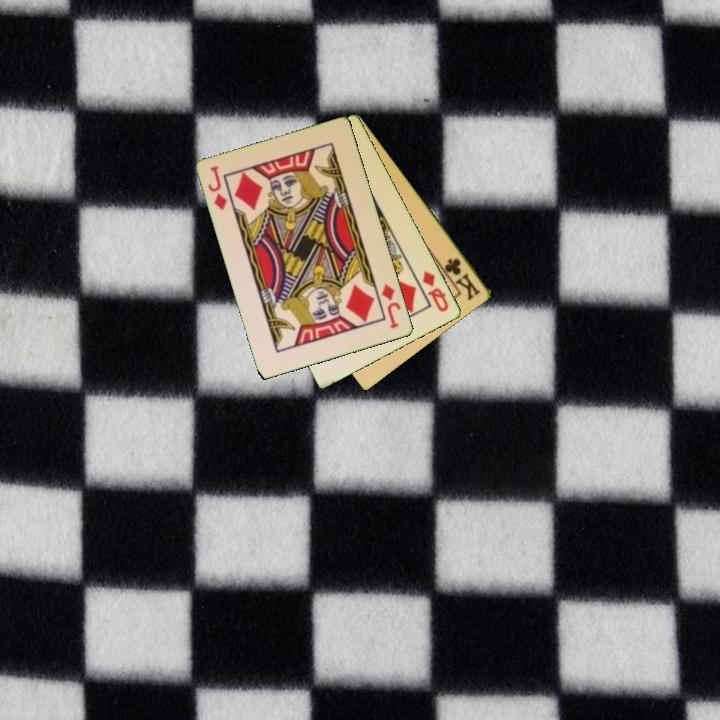Jd: (378, 280, 404, 332), (204, 162, 230, 213)
Kc: (441, 254, 484, 303)
Qd: (419, 267, 452, 315)
